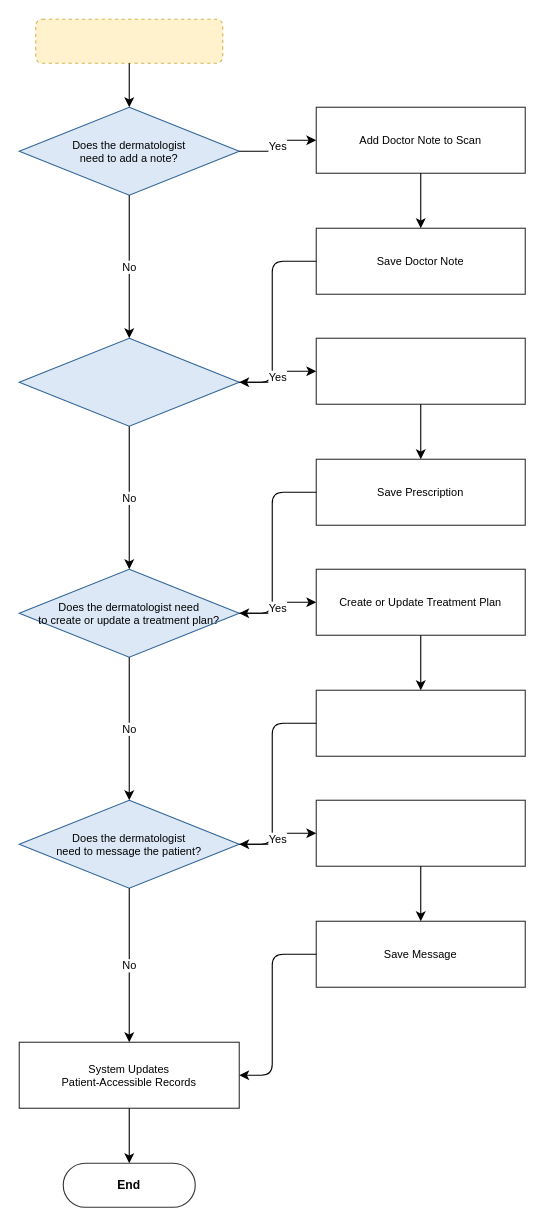
Image size: 545x1227. Some labels were removed from this diagram. The shapes that lost their labels are listed below. From the top down, each one's centre as x and y in pixels, then its label:
(x=129, y=40): Continued from Figure 3.X.a
(x=128, y=381): Does the dermatologist need to issue or update a prescription?
(x=420, y=370): Create or Update Prescription
(x=420, y=722): Save Treatment Plan
(x=420, y=832): Compose and Send Message
